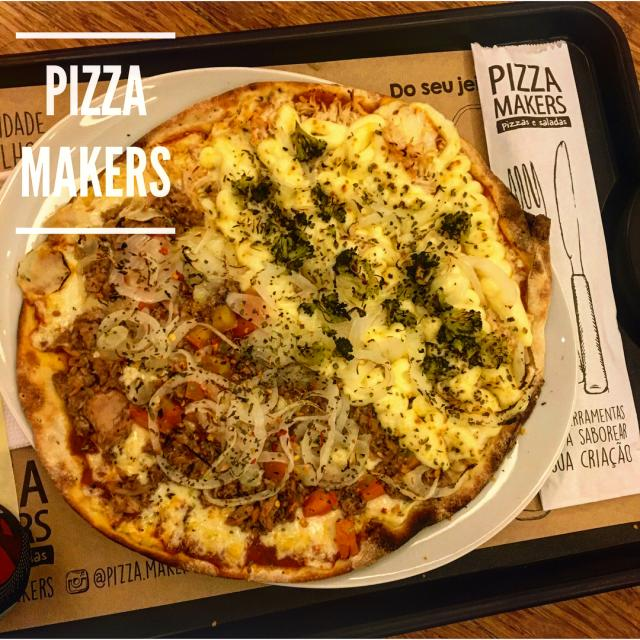pizza: (15, 84, 550, 582)
tomatoes: (124, 397, 187, 439), (324, 516, 361, 562), (180, 315, 219, 354), (298, 485, 340, 518), (226, 310, 257, 340), (357, 471, 384, 504), (177, 381, 207, 404), (262, 457, 287, 483), (131, 297, 155, 316)
